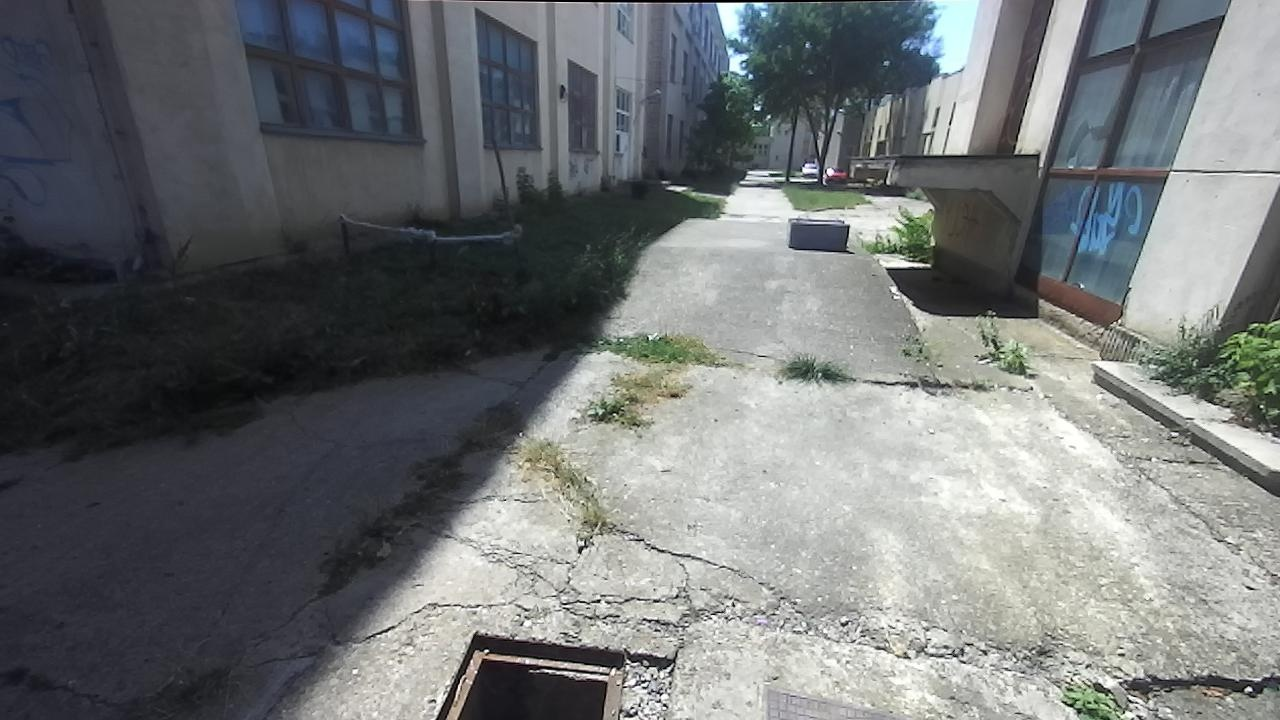drain: (429, 634, 638, 720)
